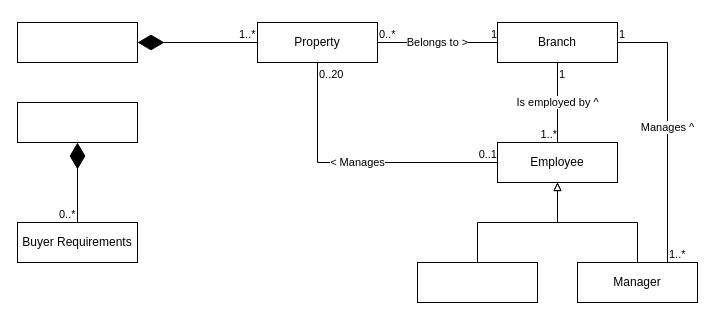
The diagram is 715 pixels wide and 320 high, and some of its shapes have lost their labels. The centre of each missing label's shape, as x and y in pixels:
"Buyer" goes at (x=77, y=122).
"Seller" goes at (x=77, y=42).
"Staff" goes at (x=477, y=282).
